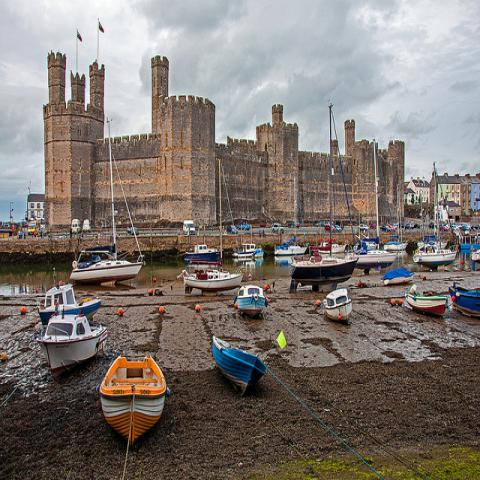car: (183, 219, 195, 235), (271, 225, 284, 234), (358, 223, 369, 232), (324, 224, 336, 232), (288, 220, 300, 228), (380, 224, 391, 232), (131, 227, 139, 236), (230, 225, 237, 234), (333, 224, 341, 231)
